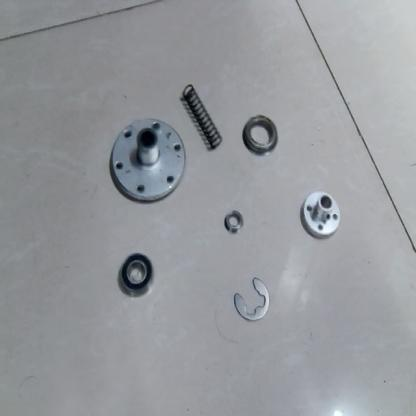FOD: (109, 117, 186, 204), (180, 76, 224, 154), (298, 187, 344, 245), (115, 250, 157, 300), (239, 112, 280, 158), (233, 275, 273, 322), (224, 209, 248, 237)
